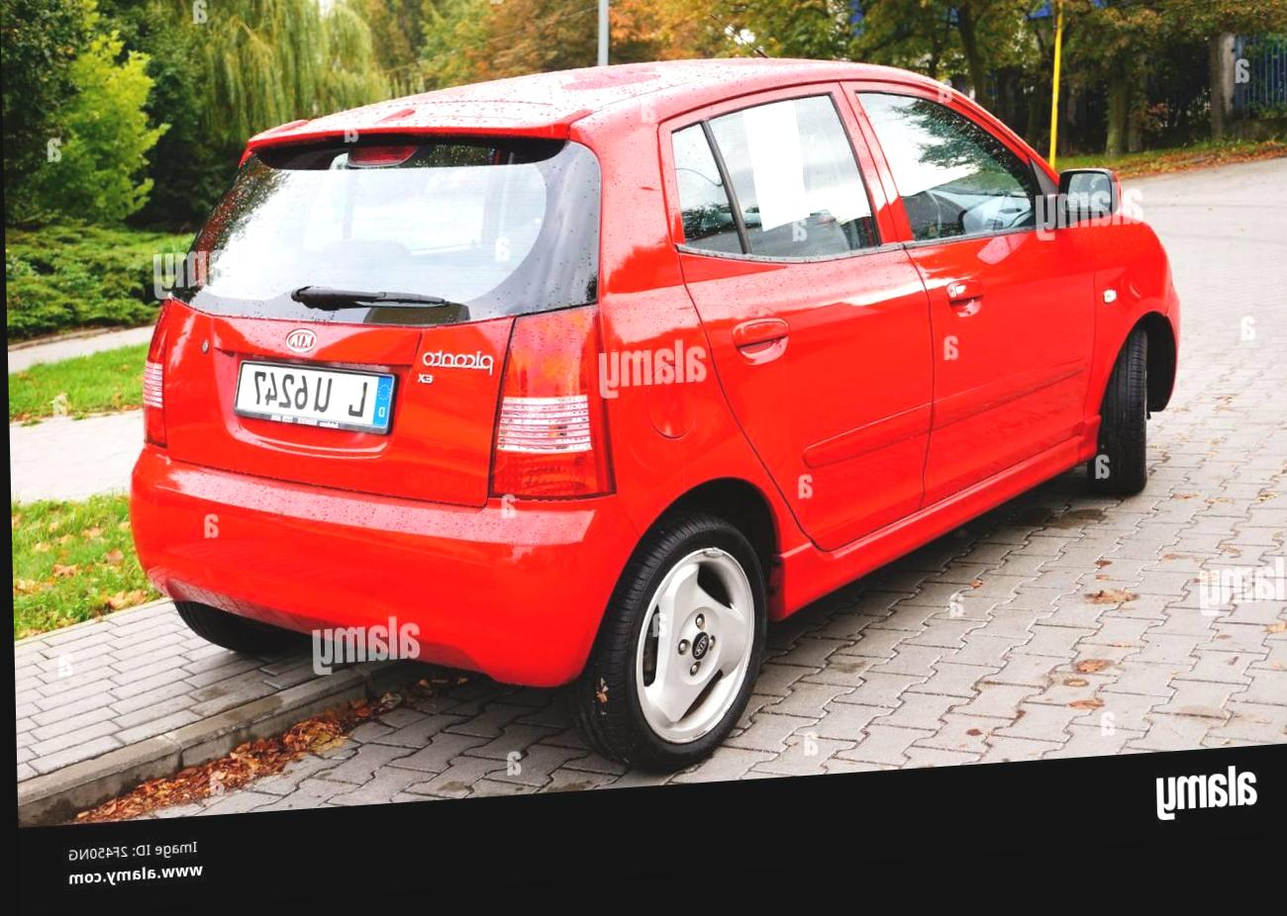License_Plate: (221, 349, 404, 451)
